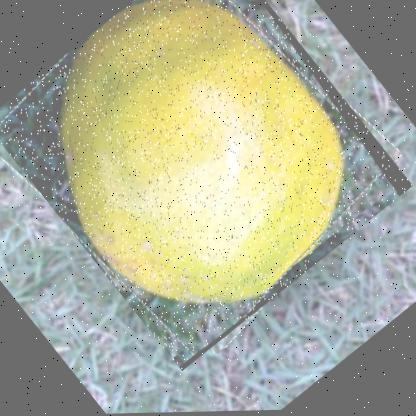orange: (0, 0, 414, 376)
